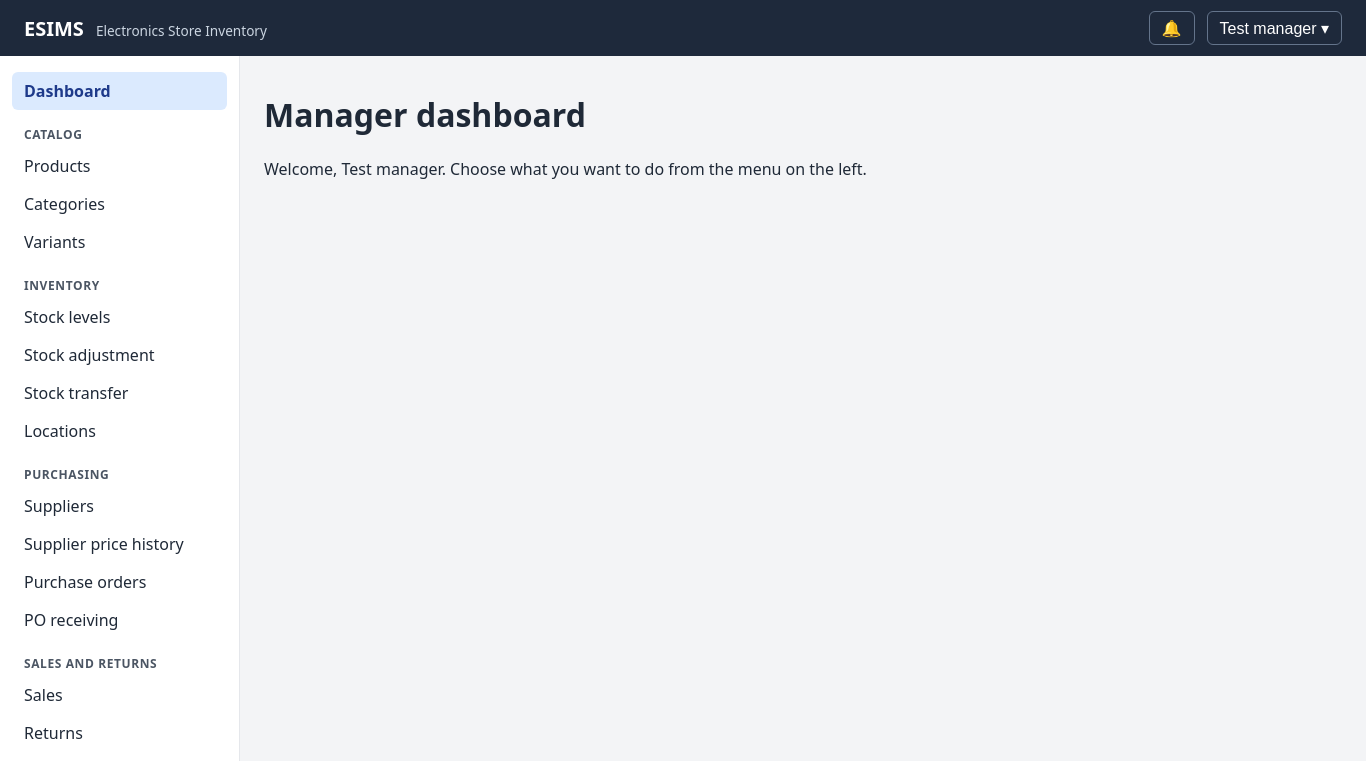
the notification bell opens an empty notifications panel
Click the button named "Notifications": (1172,28) [1149,11,1195,45]
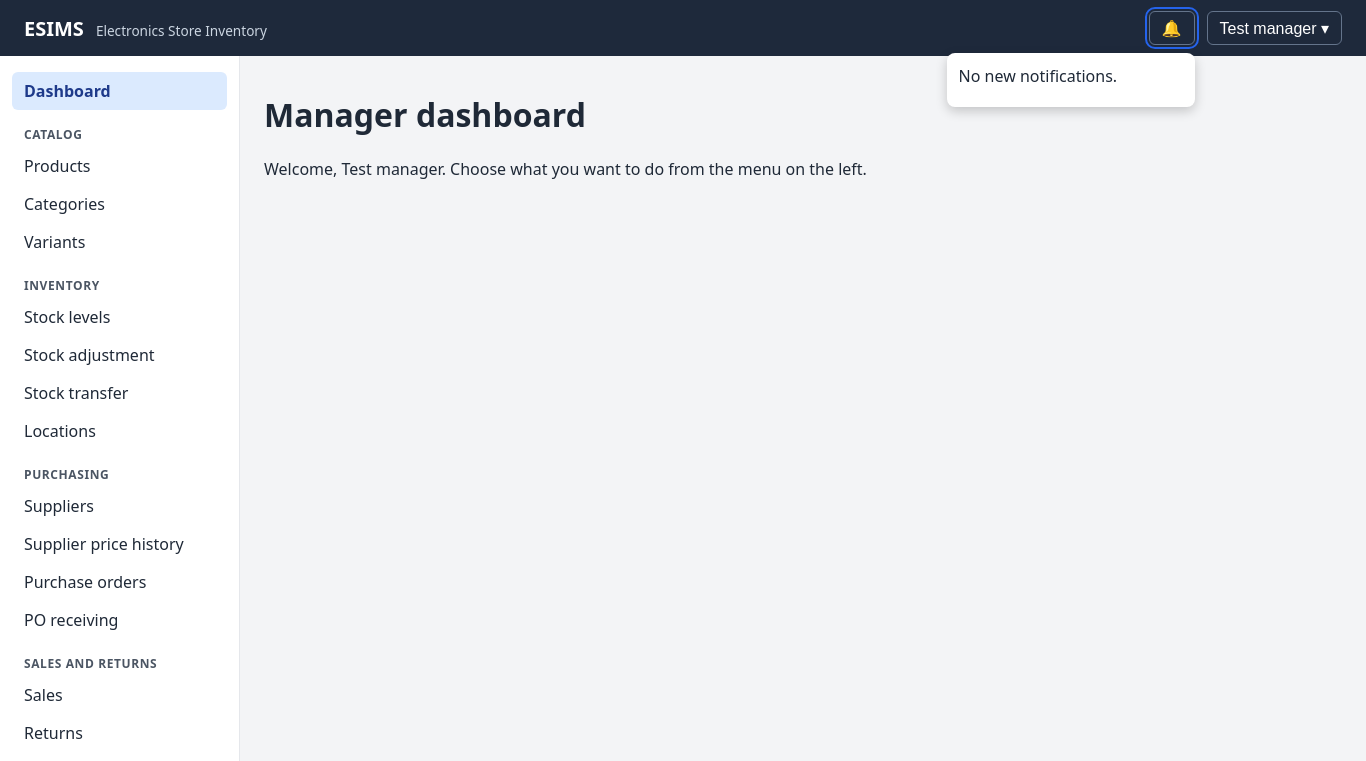
Expected: the element "notifications" reads "No new notifications.", [959,65,1117,87]
